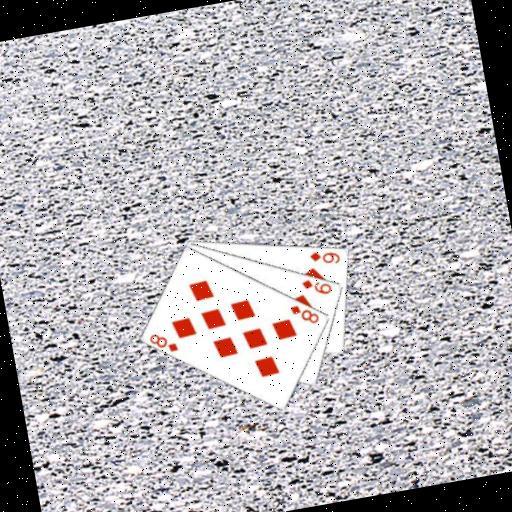6D: (306, 243, 343, 269)
8D: (286, 298, 321, 329), (146, 327, 181, 357)
9D: (297, 272, 334, 299)
